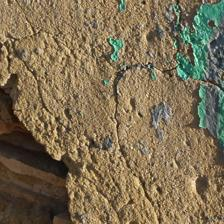Crack: (4, 73, 80, 221), (112, 69, 170, 221), (12, 9, 76, 133), (125, 63, 224, 89)
